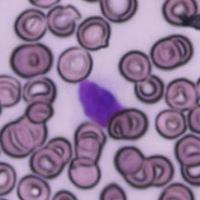L: (72, 74, 128, 130)
